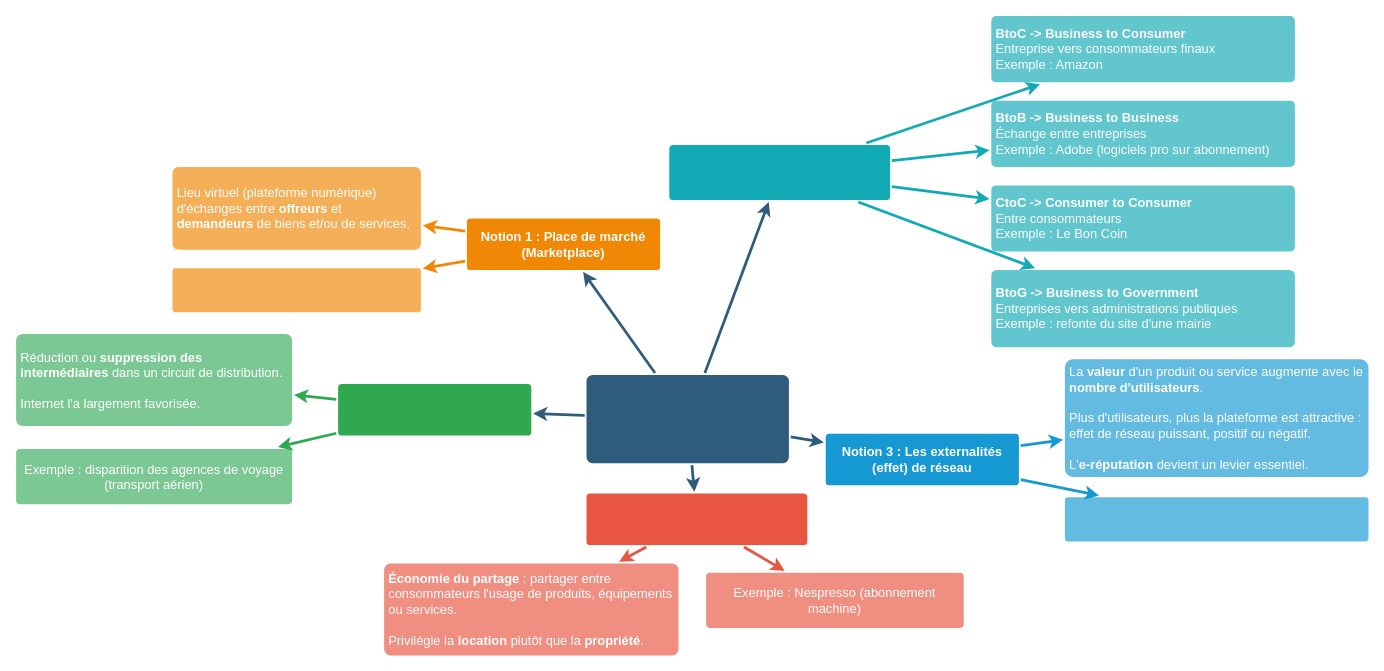
This 1384x671 diagram has some shape labels left out. Here are the shapes that lost their labels. From the top down, the box of each, then its label:
(669, 144, 890, 200): Notion 2 : Les relations d'échange (BtoB, BtoC, CtoC, BtoG)
(172, 268, 420, 312): Exemple : Amazon, Airbnb, Le Bon Coin
(338, 384, 531, 435): Notion 5 : Désintermédiation
(586, 374, 788, 463): L'IMPACT DU NUMERIQUE SUR L'ENVIRONNEMENT DES ENTREPRISES
(586, 493, 807, 545): Notion 4 : Économie collaborative
(1064, 497, 1368, 541): Exemple : LinkedIn, Instagram
